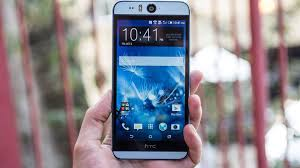htc: (110, 1, 190, 162)
